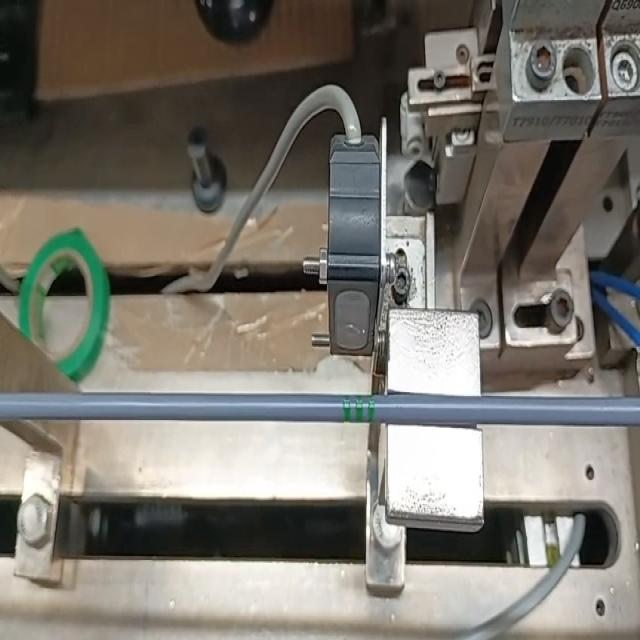green: (342, 393, 376, 420)
